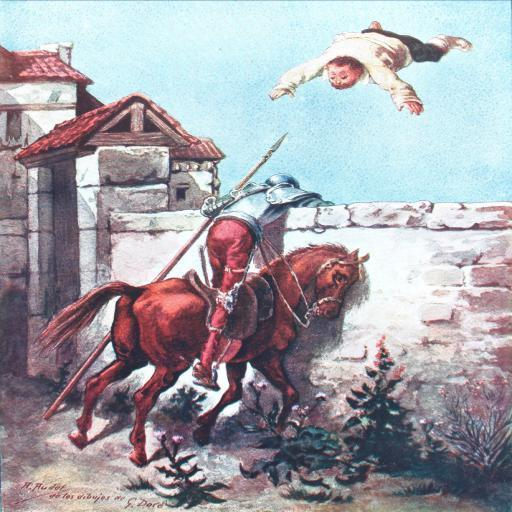horse: (33, 239, 371, 471)
